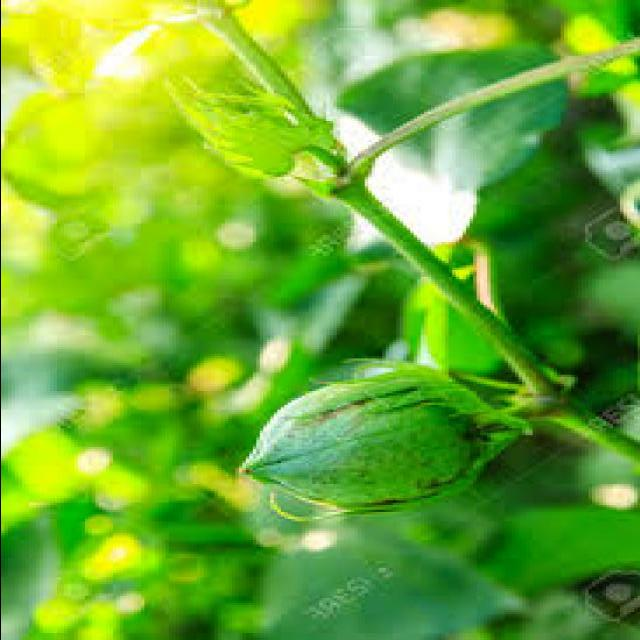Cotton Bud: (176, 75, 334, 183)
Early Boll: (241, 370, 516, 521)
